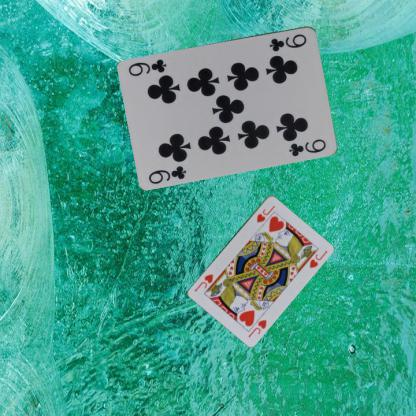9c: (146, 163, 188, 185), (267, 30, 308, 52)
Jh: (246, 316, 268, 338), (254, 202, 276, 223)
